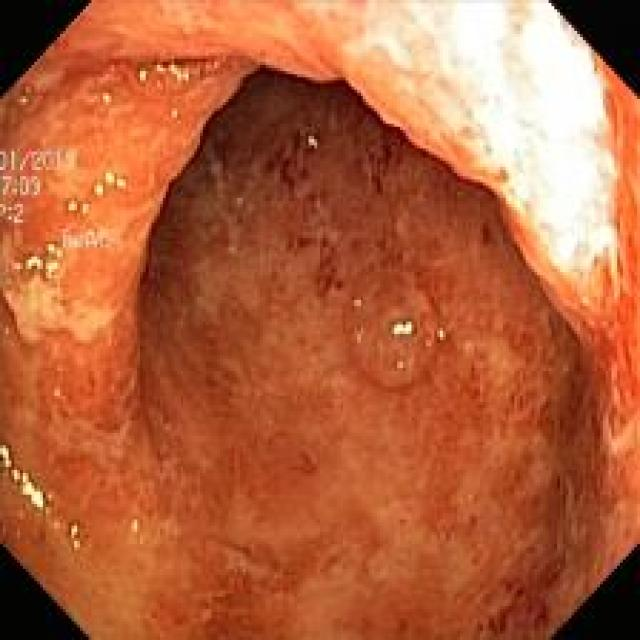ulcerative-colitis-grade-2-3: (0, 3, 640, 640)
